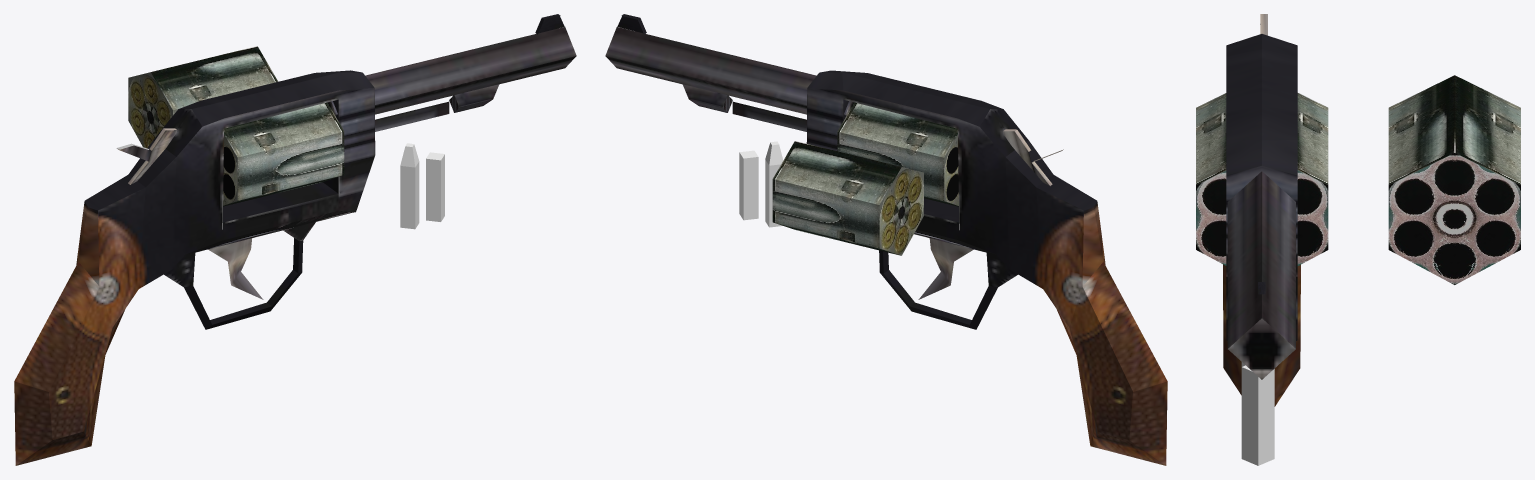
3 renders of one model, left to right at view 1: azimuth 30°, elevation 25°; view 2: azimuth 150°, elevation 25°; view 3: azimuth 270°, elevation 25°, orthographic. The views are drawn at different scales.
Parts seen in each view (by area): view 1: 38SpecialBody, 38SpecialCylinder, 38SpecialCylinder.001, 38SpecialTrigger&Hammer, Bullet.001, 38SpecialShell; view 2: 38SpecialBody, 38SpecialCylinder.001, 38SpecialCylinder, 38SpecialTrigger&Hammer, 38SpecialShell, Bullet.001; view 3: 38SpecialBody, 38SpecialCylinder.001, 38SpecialCylinder, 38SpecialShell.
Part boxes in pixels (x1,y1,x2,y2): 38SpecialBody: (14,14,576,465); 38SpecialCylinder: (223,102,344,206); 38SpecialCylinder.001: (128,46,277,148); 38SpecialTrigger&Hammer: (116,128,263,299); Bullet.001: (400,143,419,229); 38SpecialShell: (426,152,444,221); 38SpecialBody: (605,14,1167,465); 38SpecialCylinder.001: (772,141,923,255); 38SpecialCylinder: (837,102,958,206); 38SpecialTrigger&Hammer: (918,129,1063,299); 38SpecialShell: (739,150,758,220); Bullet.001: (765,141,783,227); 38SpecialBody: (1223,34,1300,406); 38SpecialCylinder.001: (1388,75,1520,284); 38SpecialCylinder: (1196,93,1328,265); 38SpecialShell: (1241,365,1274,465).
Size of the model in its own units: 2.46 by 1.36 by 0.8423.
5 materials, 3 textured.
